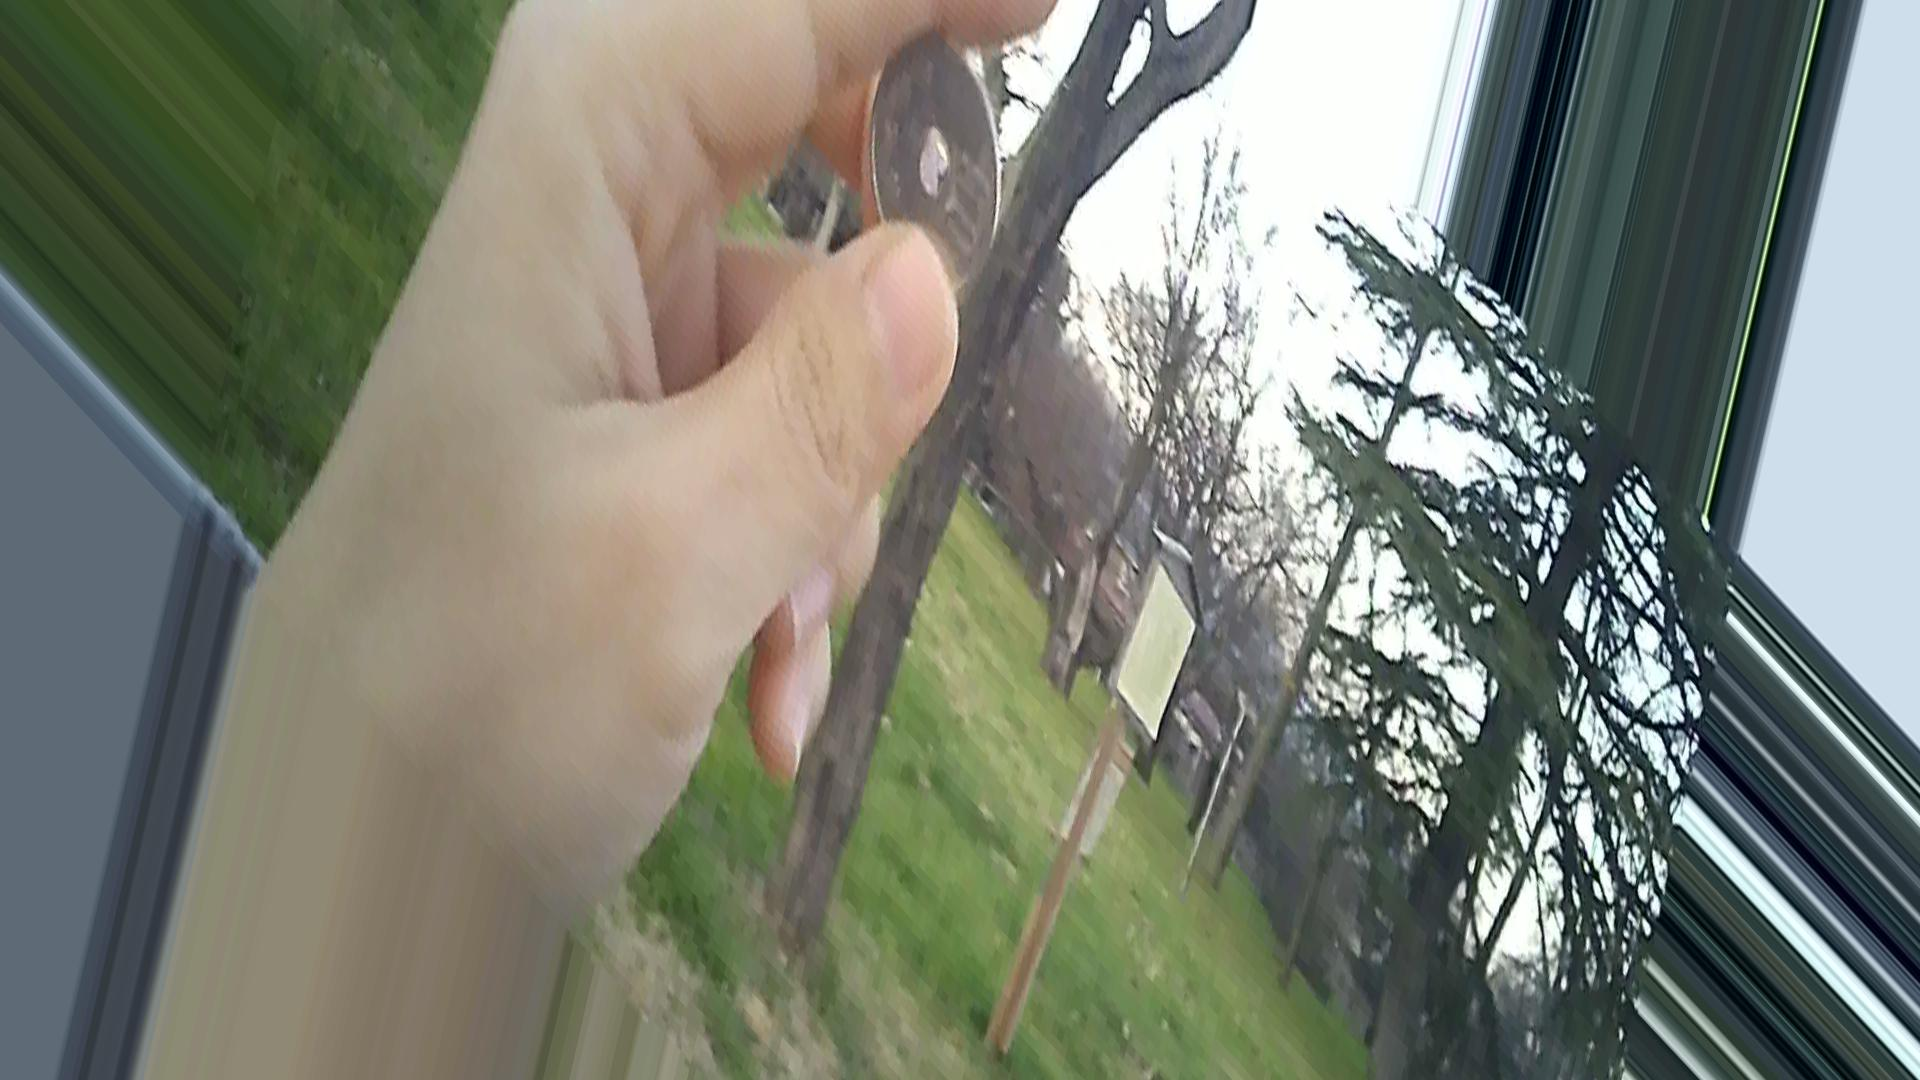50 Yen: (869, 32, 997, 280)
